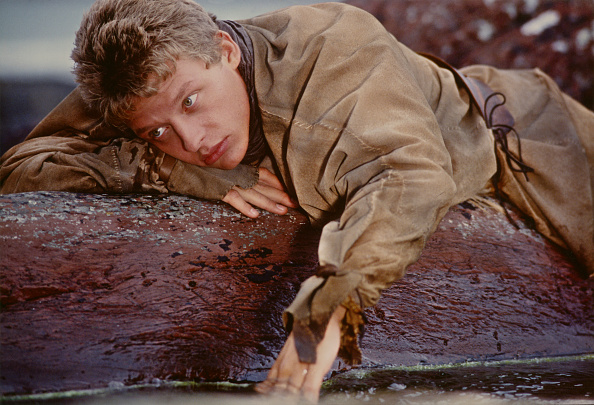deitado: (64, 0, 460, 290)
